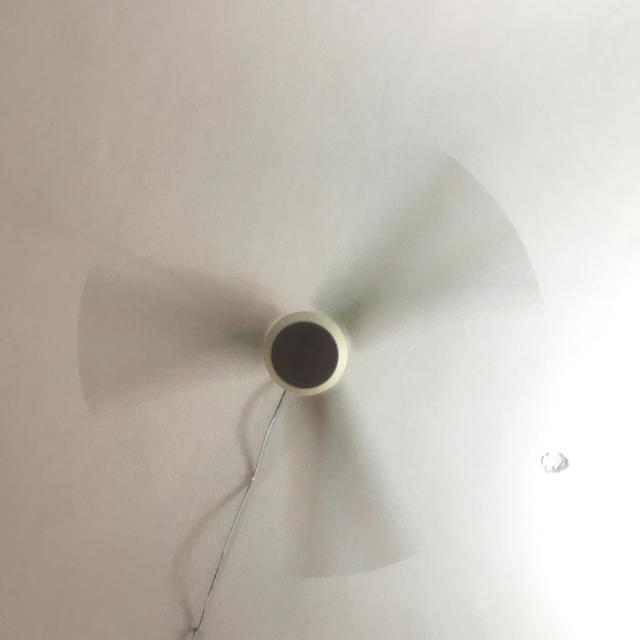on: (66, 146, 551, 589)
